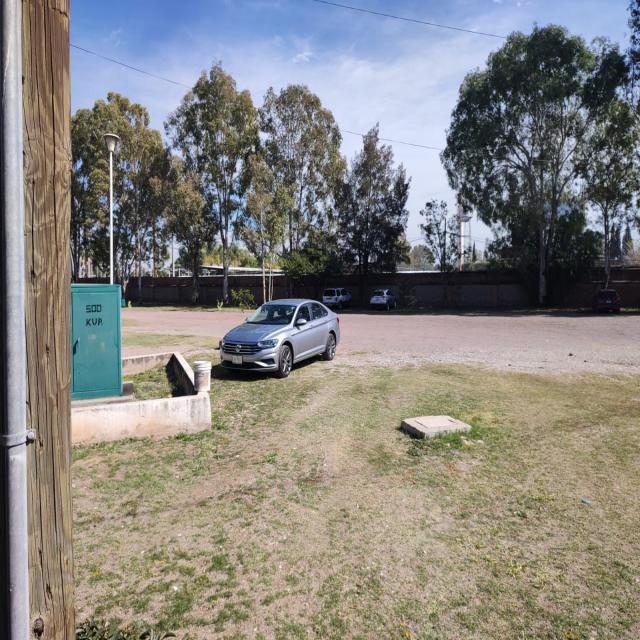Auto: (220, 297, 341, 375), (597, 286, 620, 314), (323, 288, 351, 309), (371, 290, 396, 312)
